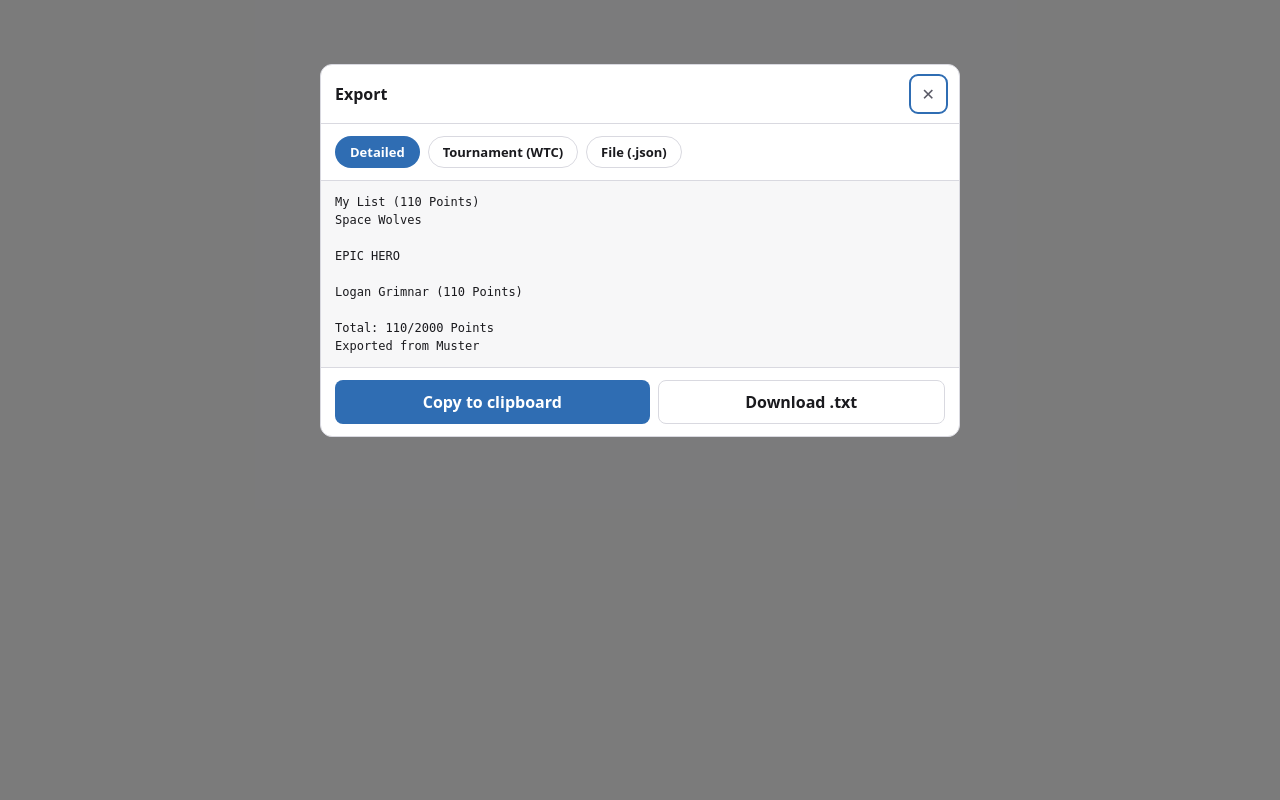
Test case: ExportModal › switches to the Tournament format and shows the WTC summary block
Click the tab "Tournament (WTC)". click: (503,152)
box: [428, 136, 578, 168]
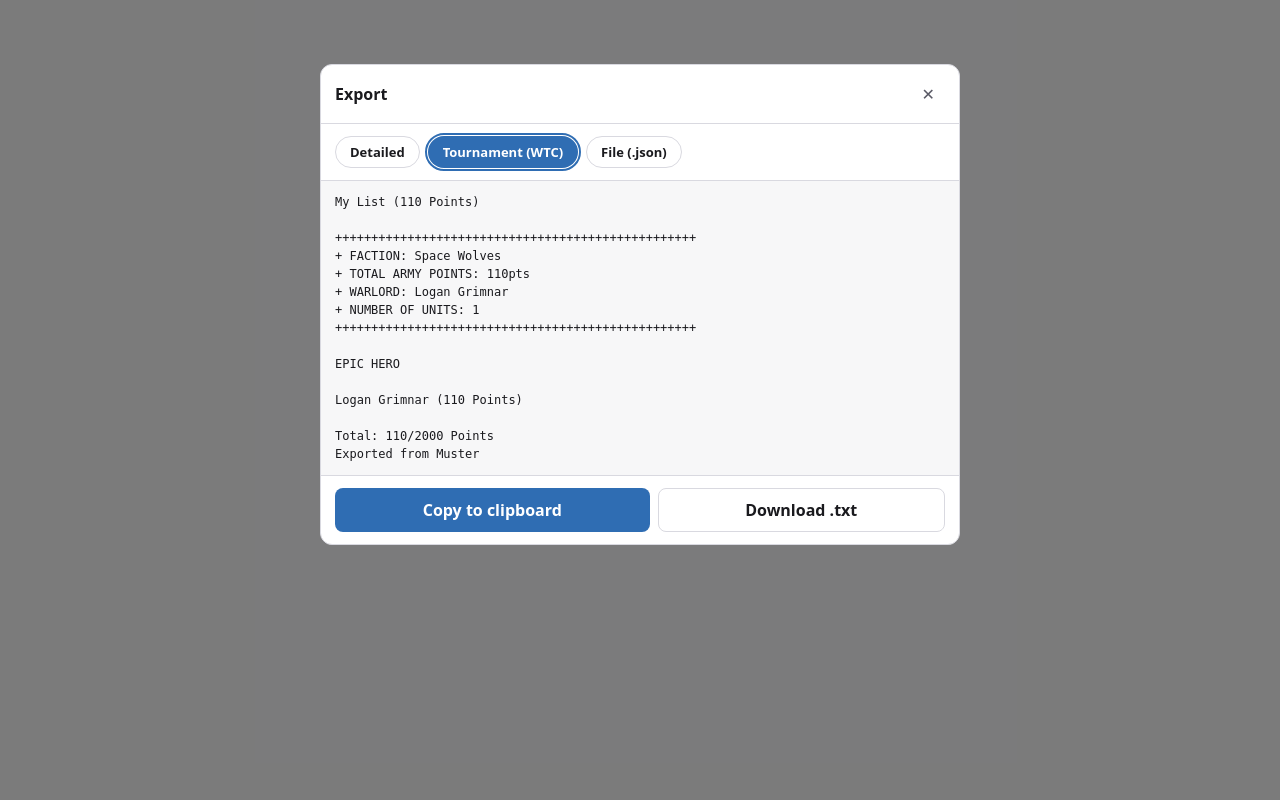
Result: the panel with test id "export-preview" shows "+ FACTION: Space Wolves" at [335, 195, 696, 461]
Result: the panel with test id "export-preview" shows "+ WARLORD: Logan Grimnar" at [335, 195, 696, 461]
Result: the panel with test id "export-preview" shows "+ NUMBER OF UNITS: 1" at [335, 195, 696, 461]
